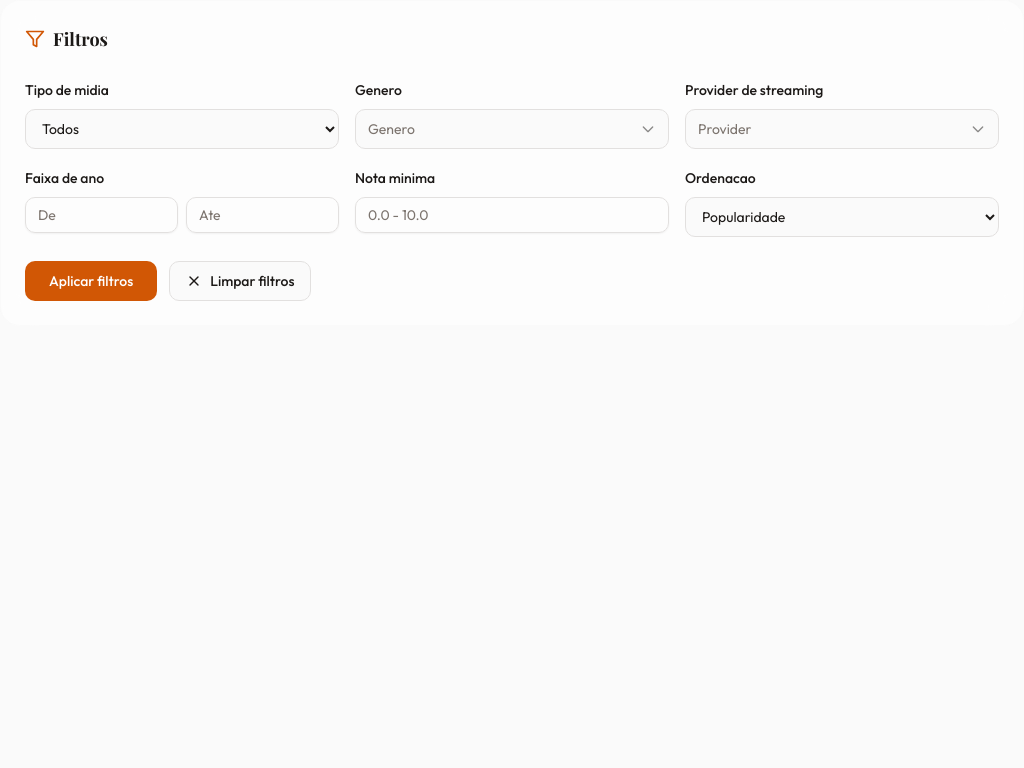
Test: SearchFilters › shows empty state when no results found
Click the button "Aplicar filtros": click(91, 281) 25,261 -> 157,301
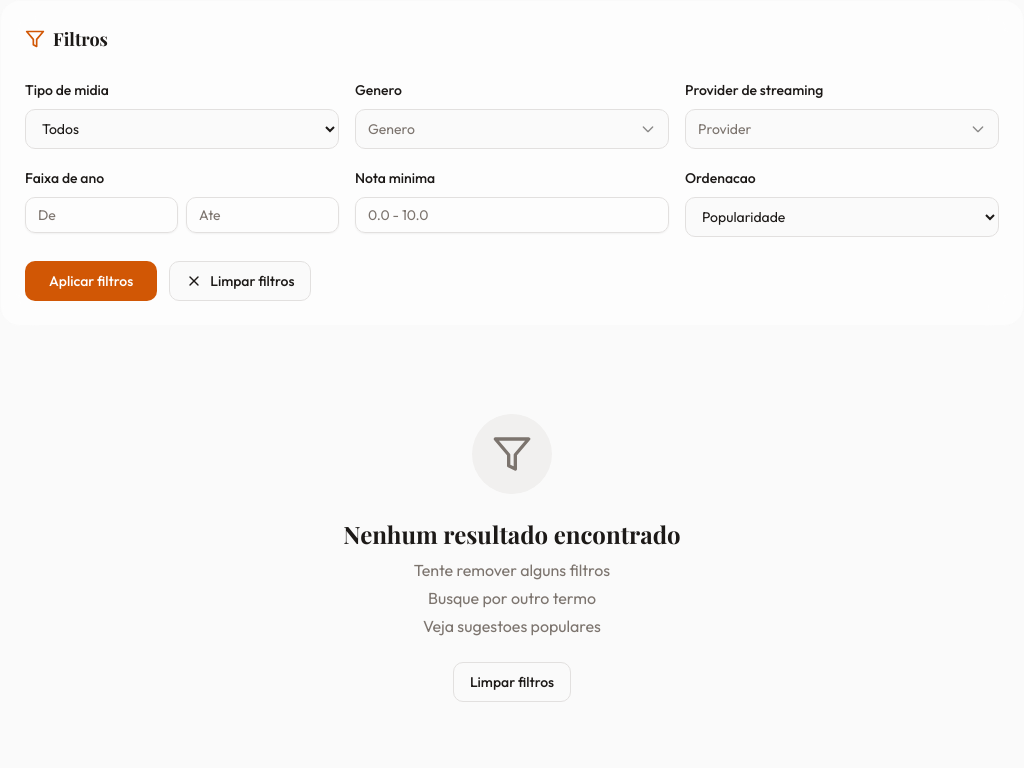
Result: the heading "Nenhum resultado encontrado" is shown at 343,518 -> 681,550
